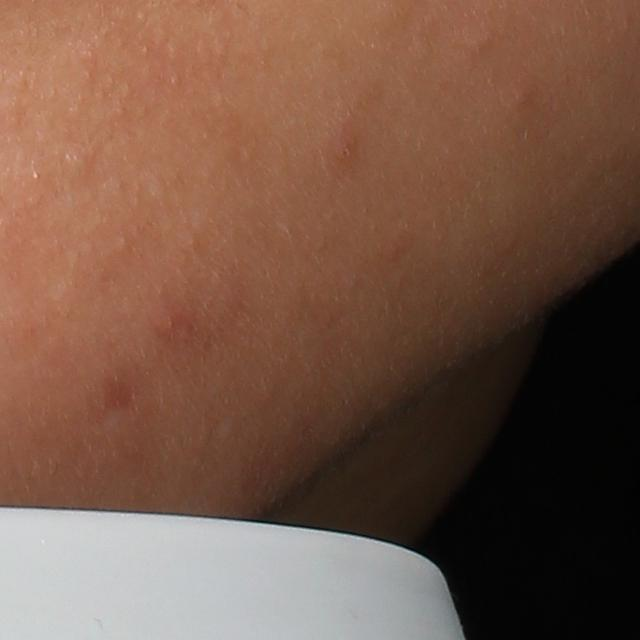comedo: (59, 139, 96, 175), (509, 81, 539, 113), (465, 29, 490, 53)
papule: (148, 302, 191, 345)
